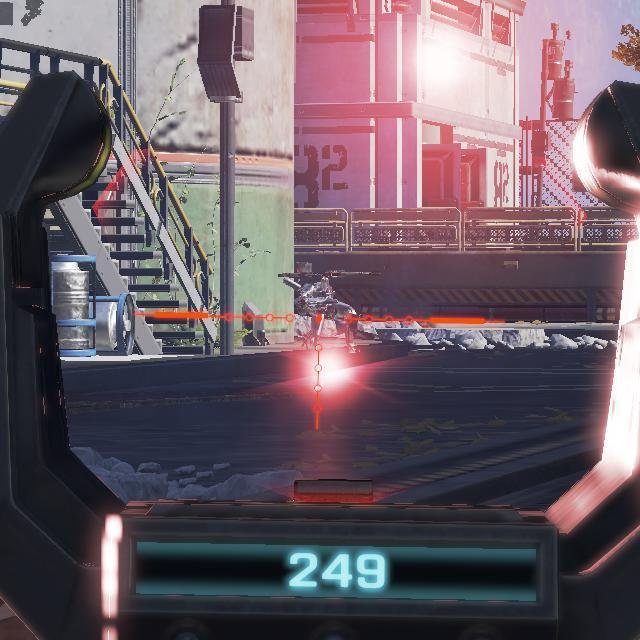avatar: (291, 270, 361, 356)
